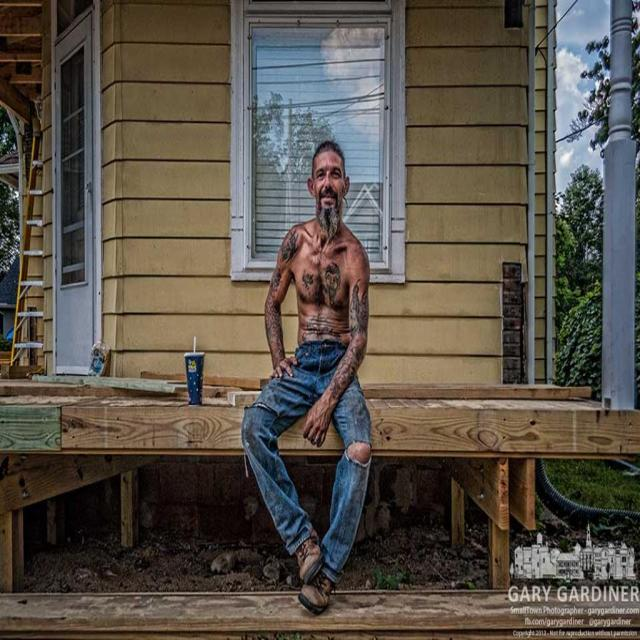nomask: (315, 151, 344, 217)
